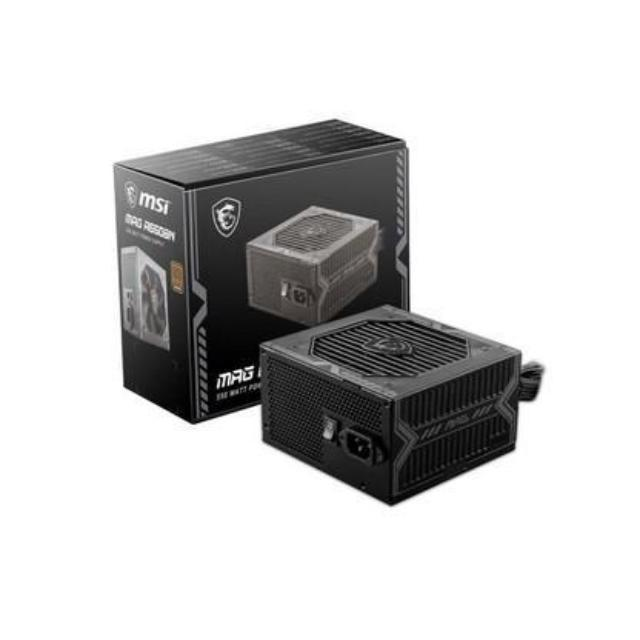PSU: (250, 298, 528, 513)
